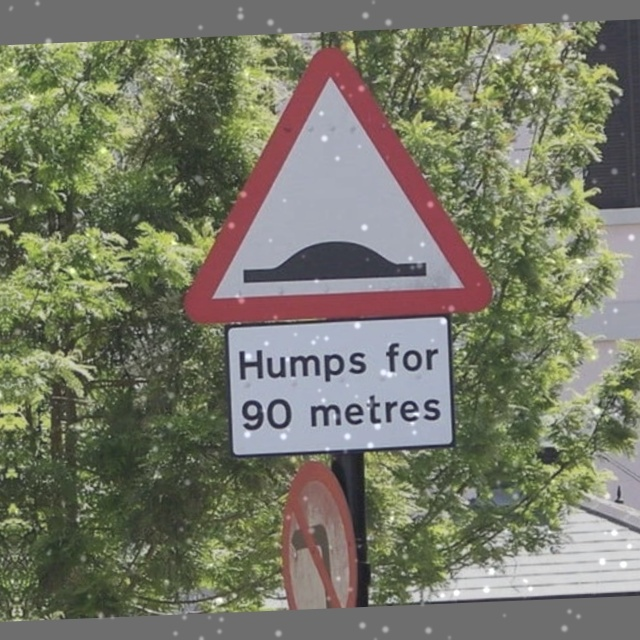Hump_or_Rough_Road: (186, 46, 475, 320)
